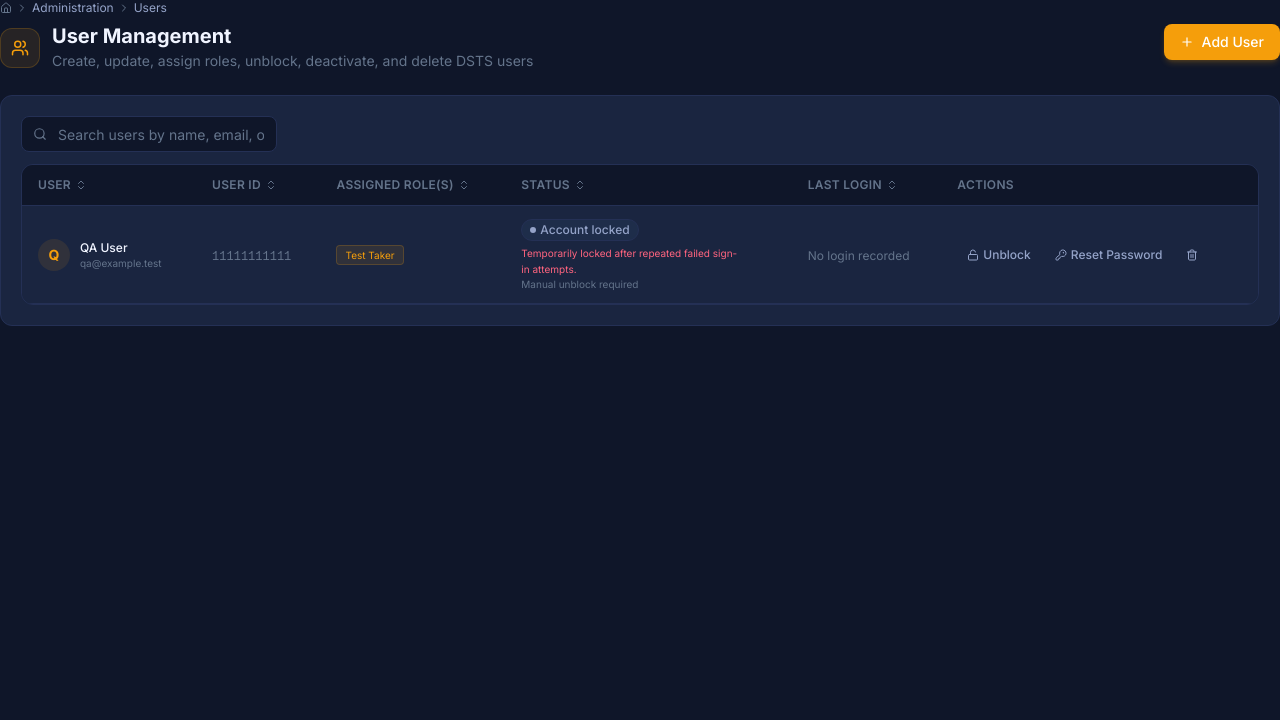
Test: lets a System Admin open password reset for a locked account
Click the button "Reset Password" at (1109, 255), box [1045,241,1172,269]
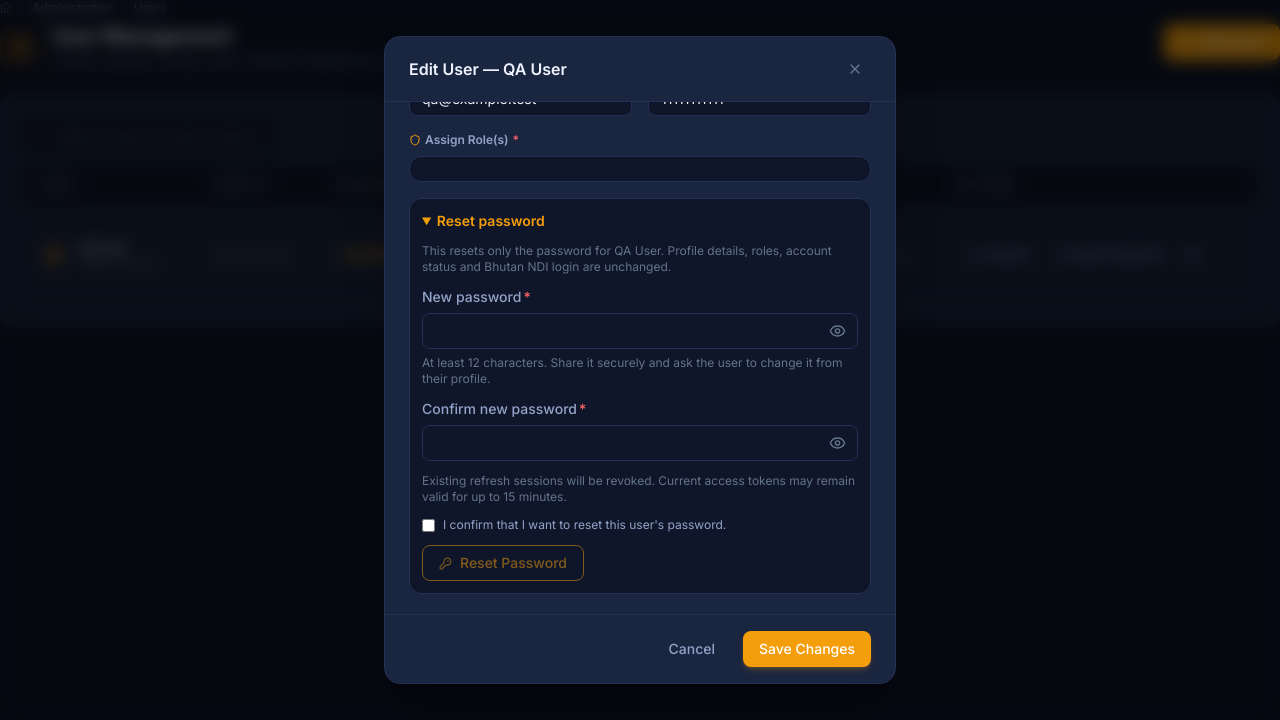
Check: the password field labelled "New password" is shown, box [422,313,858,349]
